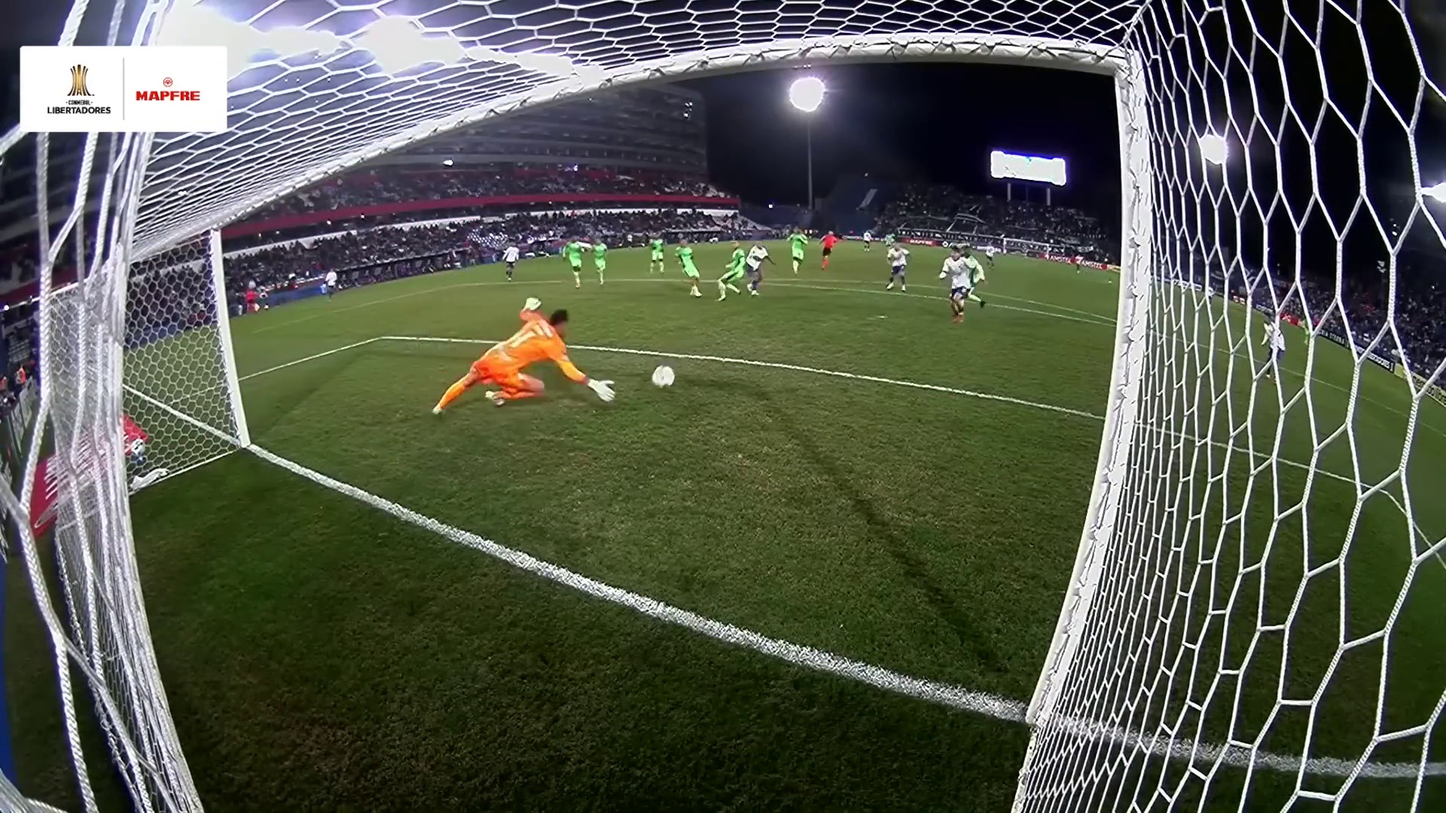ball: (651, 364, 676, 390)
player: (427, 295, 607, 417), (947, 249, 988, 322), (939, 247, 976, 322), (741, 243, 777, 299), (1259, 310, 1284, 386), (715, 246, 747, 302), (674, 237, 703, 297), (885, 240, 911, 292), (564, 237, 588, 287), (788, 228, 810, 274), (590, 236, 609, 285), (647, 232, 668, 274), (502, 242, 519, 280), (323, 267, 340, 300), (982, 241, 997, 269), (1203, 287, 1217, 309), (861, 231, 873, 253), (1074, 255, 1084, 275)
referee: (818, 230, 843, 270), (242, 289, 260, 314)
